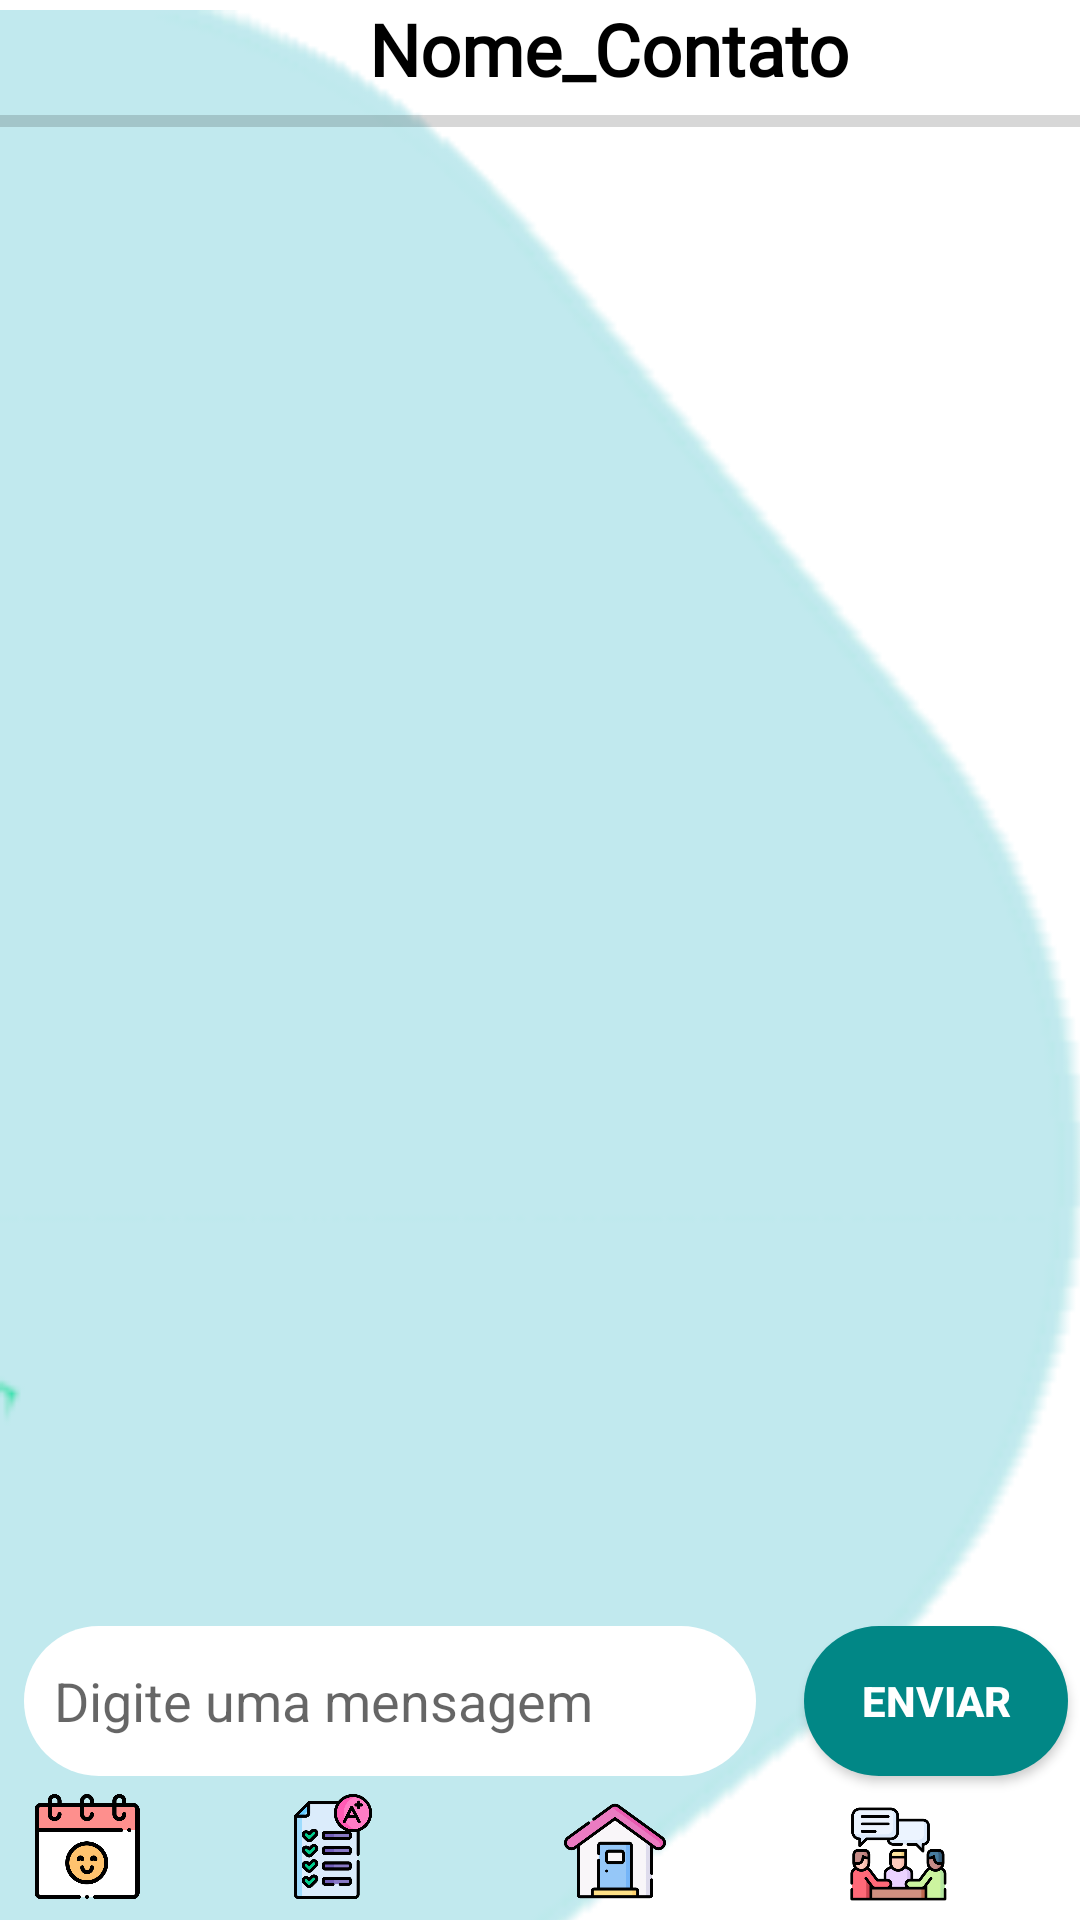

Icons on this 1080*1920 Android screen, each with the point to tap as (x,y):
bdenavecagao calendario: (87,1846)
bdenavecagao home: (627,1853)
bdenavecagao talkprofessor: (898,1854)
notas: (333,1846)
